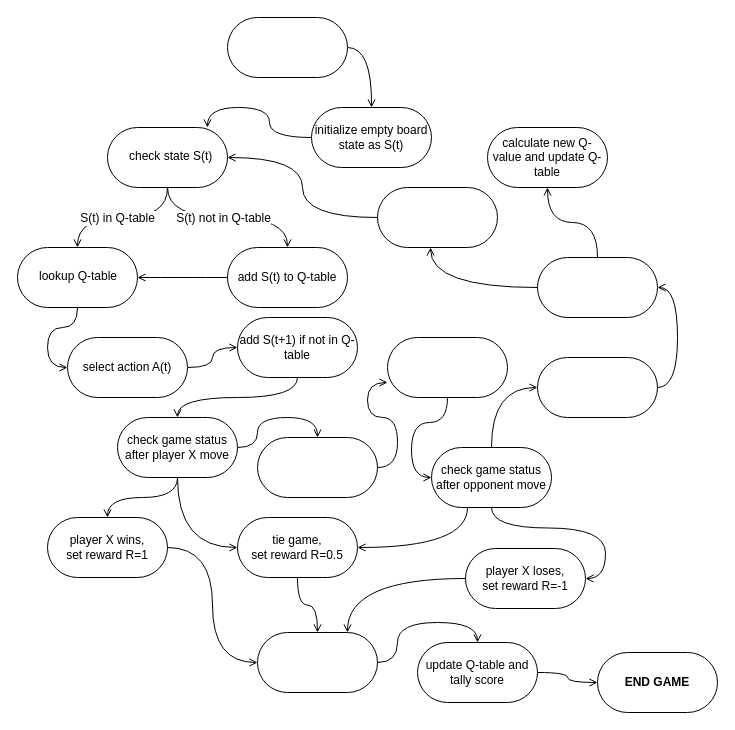
The diagram is 735 pixels wide and 730 high, and some of its shapes have lost their labels. The shapes that lost their labels are listed below. From the top down, each one's centre as x and y in pixels, then its label:
(287,47): START GAME
(437,217): set S(t) = S(t+2)
(597,287): set reward R=0
(447,367): opponent plays state S(t+2)
(597,387): continue game after opponent move
(317,467): continue game after player X move
(317,662): calculate new Q-value
